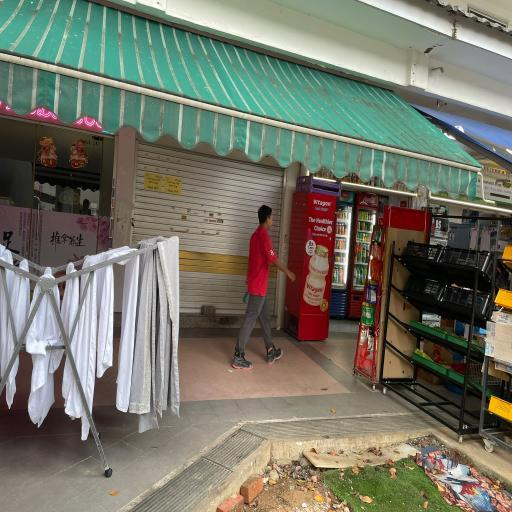person_right: (230, 199, 298, 373)
